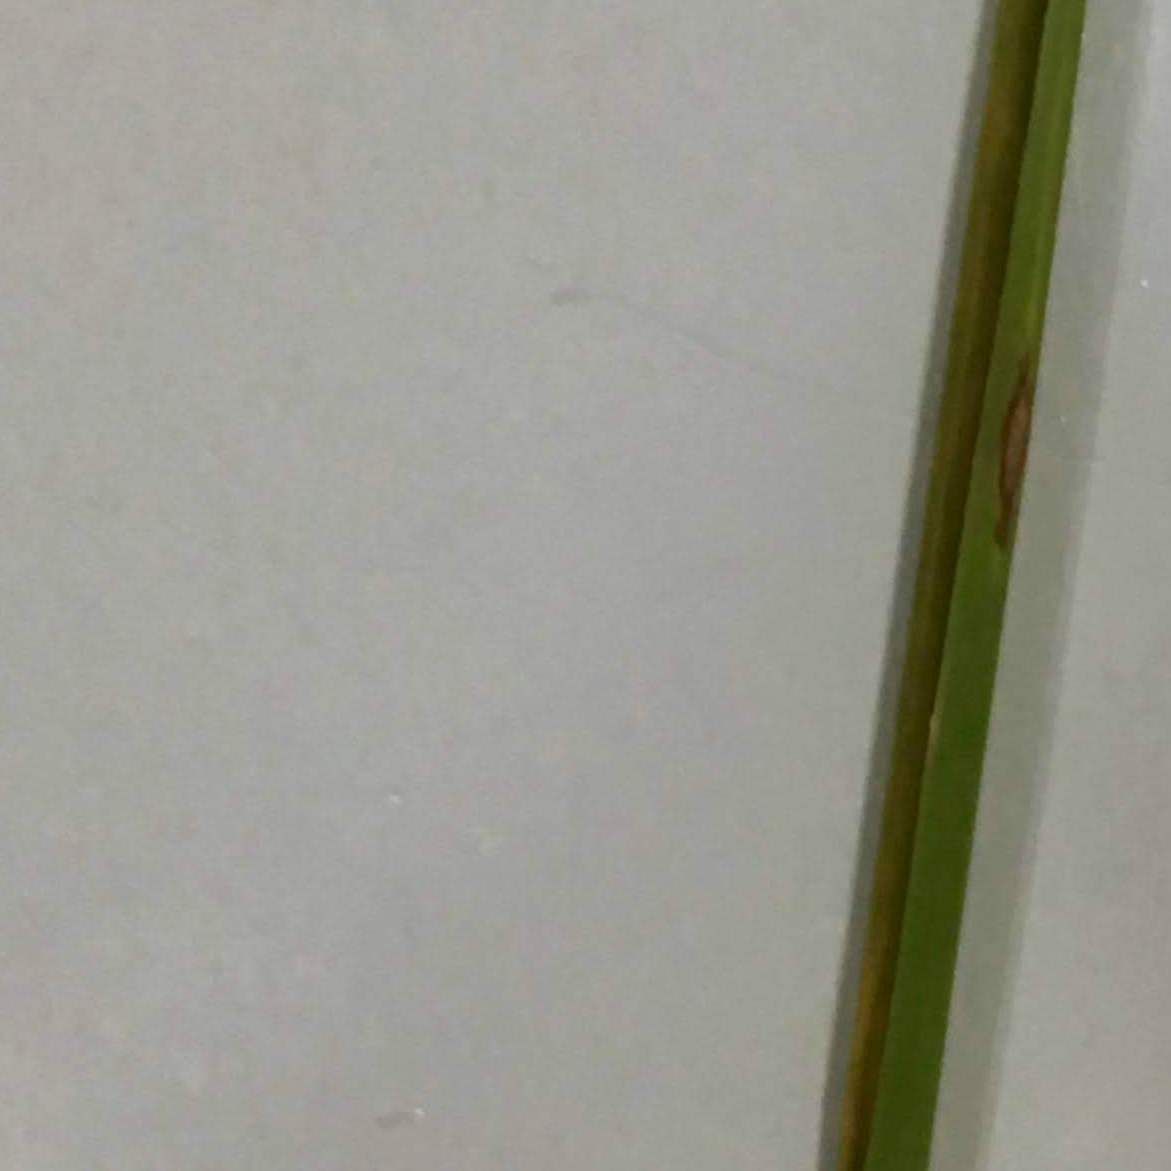leaf blast: (843, 1, 1098, 1171)
